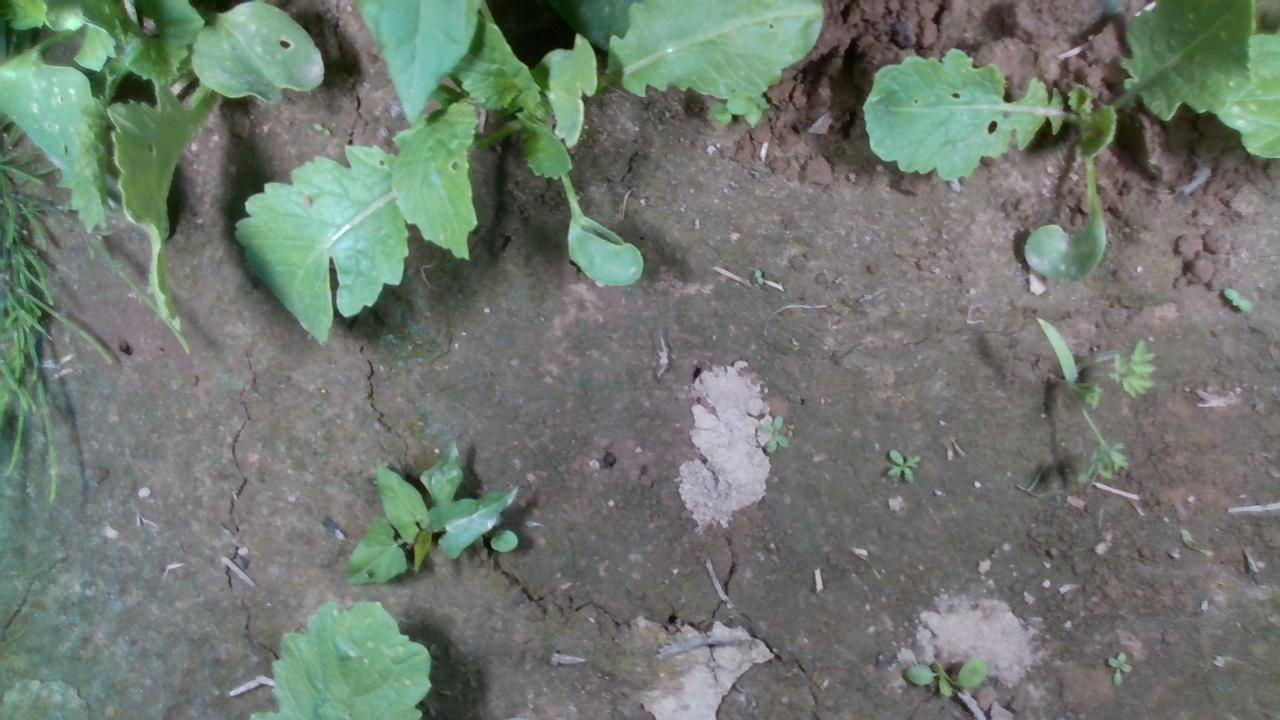weed: (757, 412, 790, 452), (884, 447, 920, 483), (1104, 650, 1132, 685)
